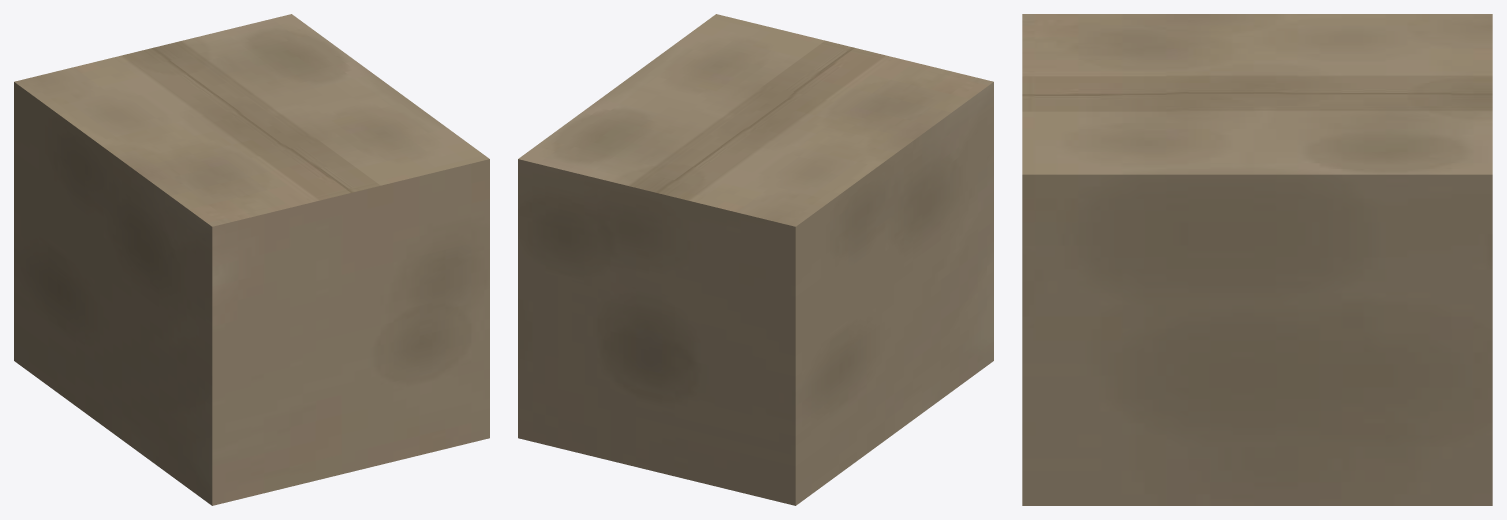
The model's file is коробки закр.glb.
The picture shows the model from 3 angles, left to right: view 1: azimuth 30°, elevation 25°; view 2: azimuth 150°, elevation 25°; view 3: azimuth 270°, elevation 25°; orthographic projection. The views are drawn at different scales.
Parts seen in each view (by area): view 1: Cube; view 2: Cube; view 3: Cube.
Part boxes in pixels (<box>): Cube: <box>14,14,489,505</box>; Cube: <box>518,14,993,505</box>; Cube: <box>1022,14,1492,505</box>.
Bounding box in the file's own units: 1.75 × 1.69 × 2.17.
Materials: 1 (1 with a texture image).
